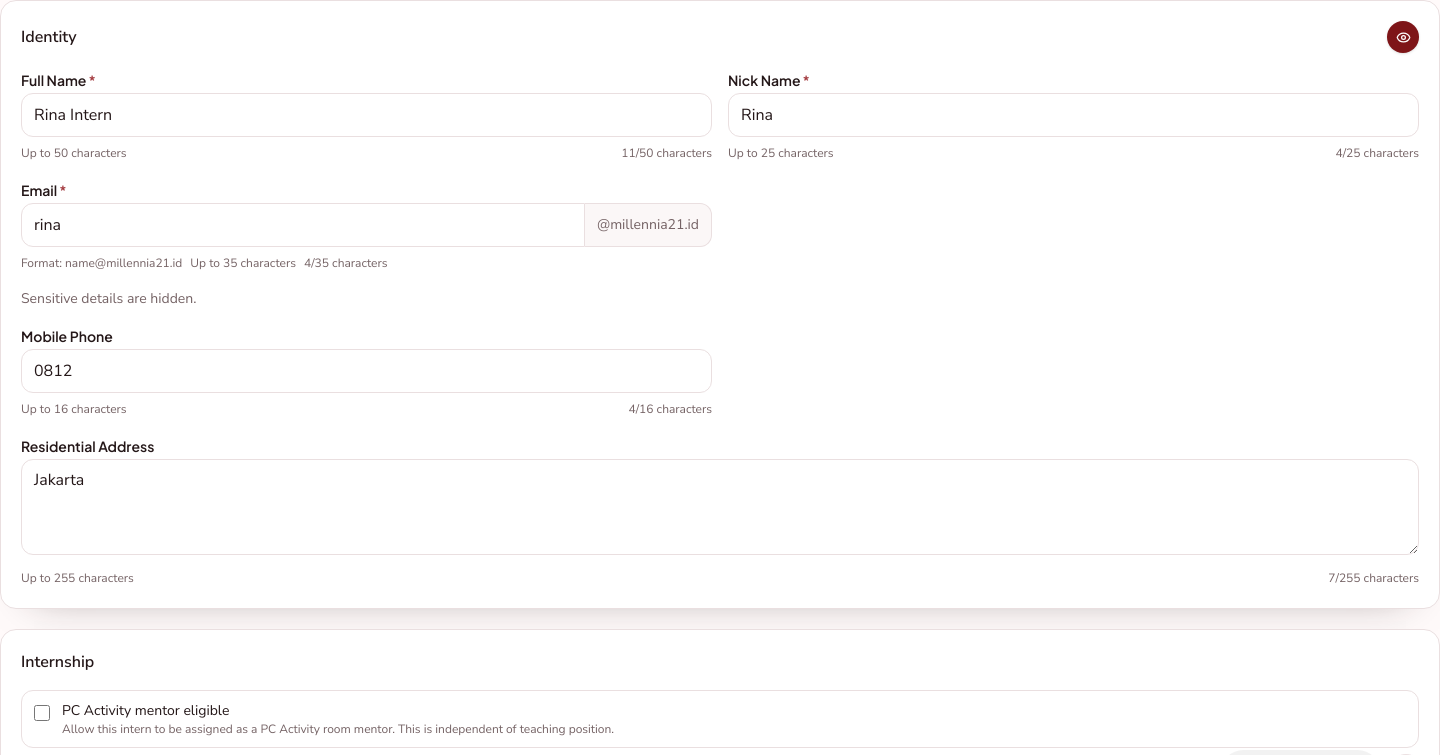
Test: Intern sensitive identity › shows the values after Show without marking the form dirty
Click the button named "Show Sensitive Fields".
click(1403, 37)  # box [1387, 21, 1419, 53]
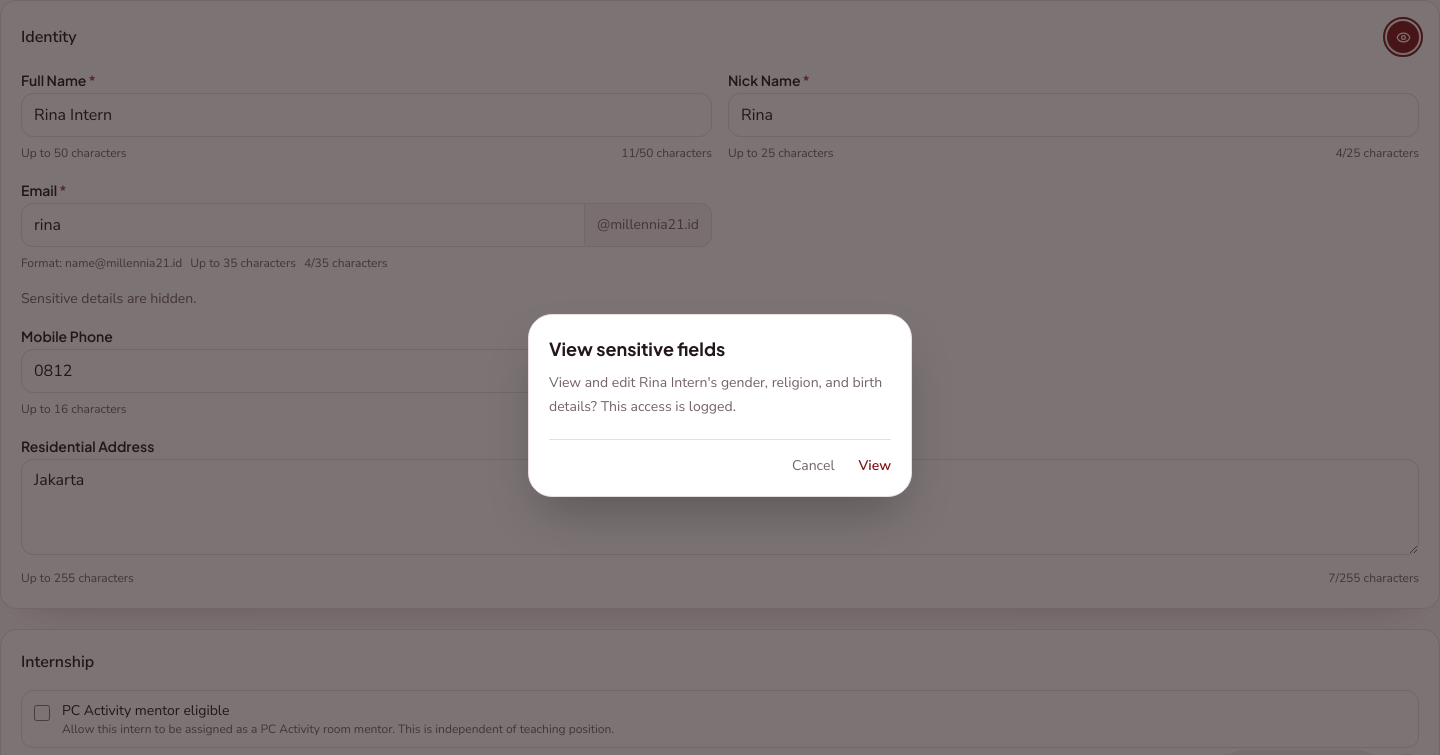
Click the button "View".
click(875, 466)  # box [858, 456, 891, 476]
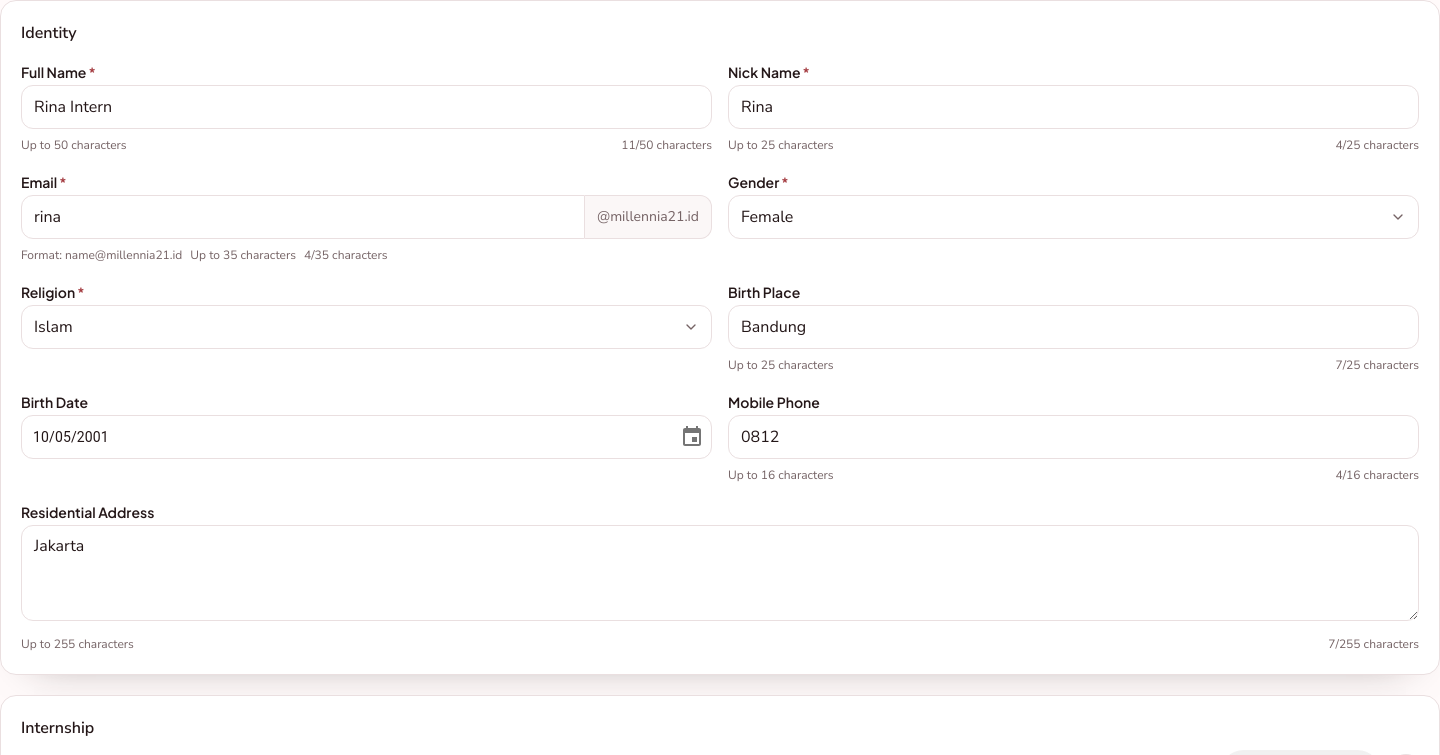
Now the field showing "Bandung" below "Birth Place" is shown, box [728, 305, 1419, 349]
